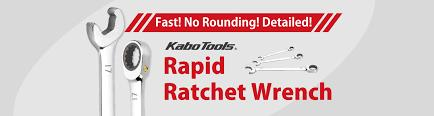wrench: (119, 39, 152, 115), (243, 62, 318, 75), (251, 51, 304, 65), (256, 44, 295, 59)
